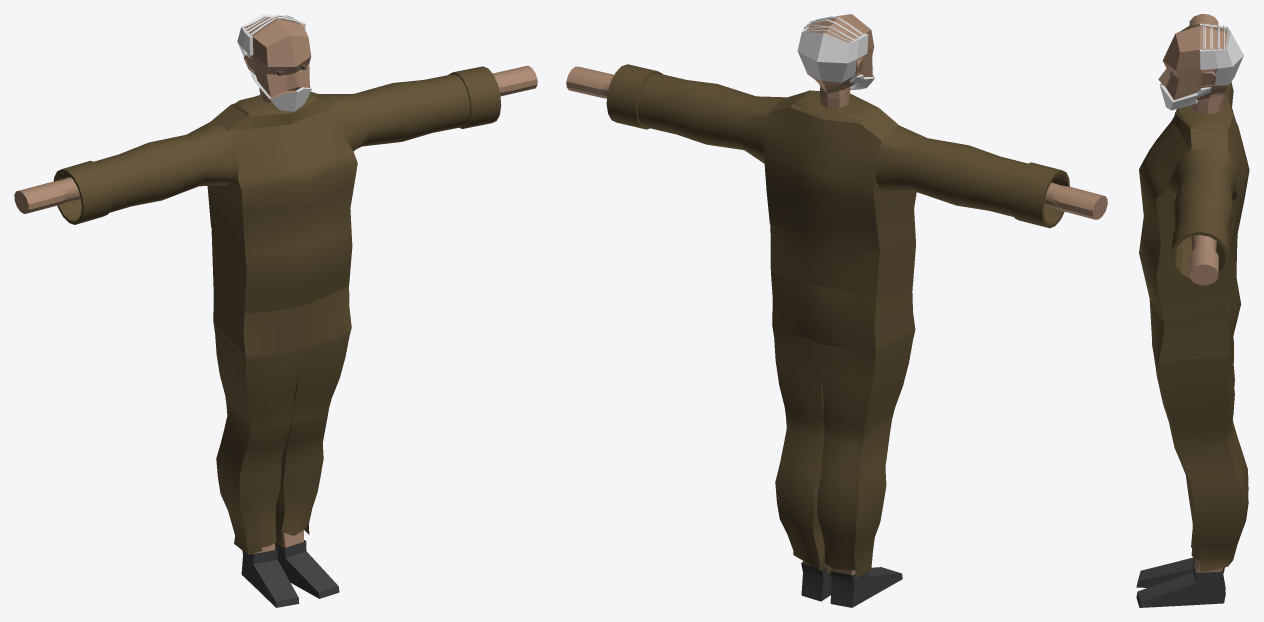
The model's file is Old man cl.fbx.
The picture shows the model from 3 angles, left to right: view 1: azimuth 30°, elevation 25°; view 2: azimuth 150°, elevation 25°; view 3: azimuth 270°, elevation 25°; orthographic projection. The views are drawn at different scales.
Visible parts, largest first — view 1: polySurface5; view 2: polySurface5; view 3: polySurface5.
Boxes of the visible parts, box(x1,y1,x2,y2) form: polySurface5: box(14, 14, 537, 607); polySurface5: box(566, 14, 1107, 607); polySurface5: box(1136, 14, 1249, 607).
Bounding box in the file's own units: 7.2 × 7.56 × 1.37.
